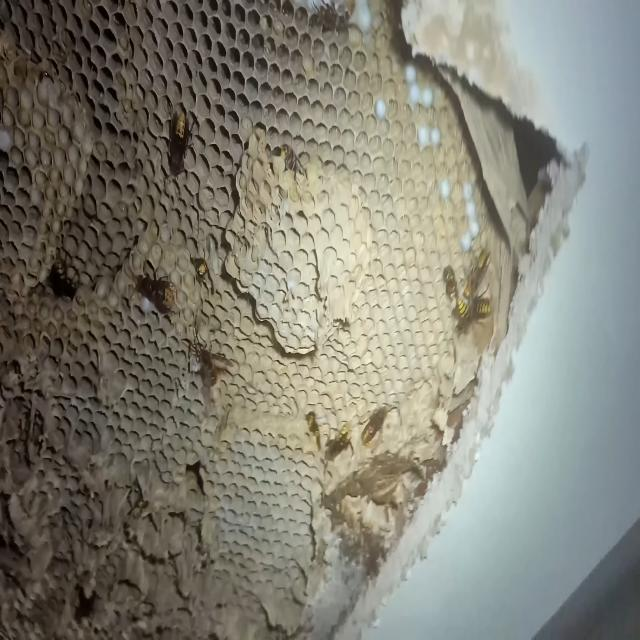Hornets: (134, 258, 180, 324), (166, 102, 197, 180), (464, 243, 490, 301)
